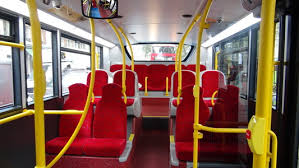seat: (92, 97, 128, 156)
